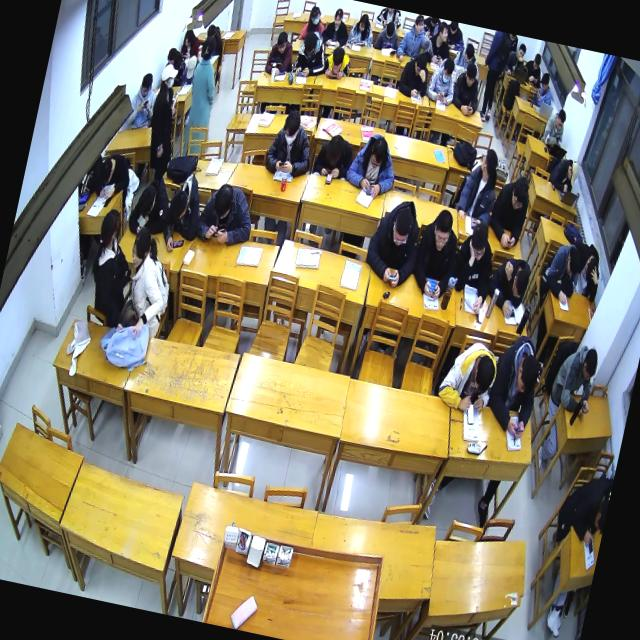bow: (190, 176, 260, 252), (124, 168, 180, 245), (482, 252, 534, 320), (541, 236, 586, 306), (90, 148, 136, 206), (546, 151, 583, 196), (320, 44, 354, 84)
down: (512, 351, 542, 399), (468, 352, 499, 398), (386, 203, 416, 250), (428, 207, 457, 254), (466, 220, 492, 266), (279, 107, 304, 149), (506, 173, 531, 214), (578, 345, 602, 385), (366, 134, 390, 172), (322, 131, 347, 167), (509, 267, 531, 302), (562, 247, 584, 280), (95, 156, 115, 188), (300, 28, 320, 58), (580, 252, 600, 282), (438, 56, 457, 86), (563, 158, 581, 188), (410, 51, 429, 79), (137, 70, 154, 100), (328, 44, 346, 72), (182, 52, 198, 82), (462, 62, 479, 90), (273, 29, 290, 56), (552, 108, 568, 132), (382, 18, 398, 41), (356, 10, 371, 34), (461, 41, 476, 65), (164, 44, 180, 66), (538, 70, 552, 94), (182, 26, 196, 48), (530, 52, 542, 72)
lookup: (331, 5, 345, 28), (514, 42, 527, 64)
sit: (480, 330, 548, 442), (359, 190, 429, 292), (443, 216, 502, 317), (433, 332, 502, 418), (138, 62, 190, 176), (407, 202, 465, 302), (178, 31, 228, 144), (552, 466, 614, 552), (453, 142, 507, 230), (546, 337, 604, 418), (260, 104, 321, 180), (341, 127, 403, 200), (483, 168, 535, 252), (165, 160, 213, 237), (311, 128, 357, 182), (124, 68, 162, 133), (570, 240, 608, 304), (291, 25, 332, 81), (448, 59, 486, 118), (394, 12, 434, 68), (394, 46, 434, 100), (424, 52, 462, 107), (262, 27, 300, 80), (420, 17, 458, 68), (318, 4, 354, 52), (538, 105, 569, 150), (345, 8, 378, 50), (298, 1, 328, 44), (451, 36, 481, 76), (372, 16, 403, 54), (528, 70, 556, 110), (178, 24, 204, 62), (503, 40, 528, 79), (520, 50, 546, 87)
